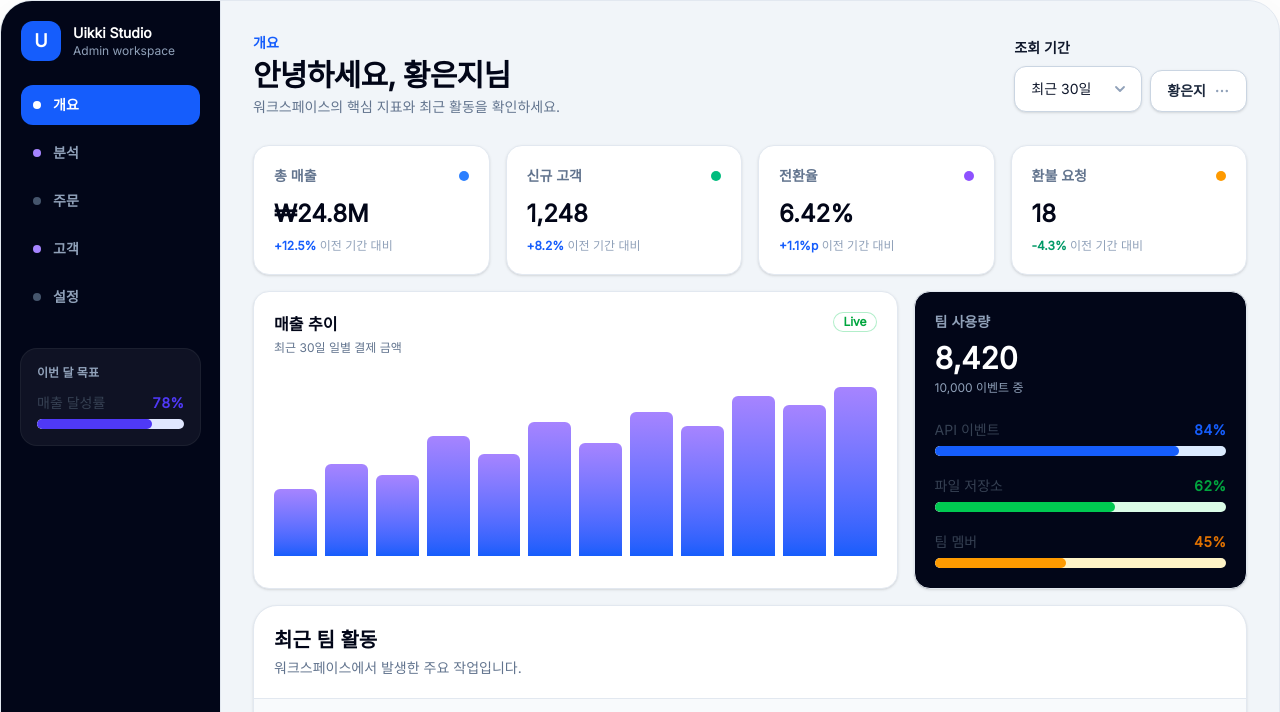
Scenario: admin dashboard template › updates the reporting period inside the composed template
Select "최근 7일" in the dropdown labelled "조회 기간" at (1078, 89), box [1014, 66, 1142, 112]
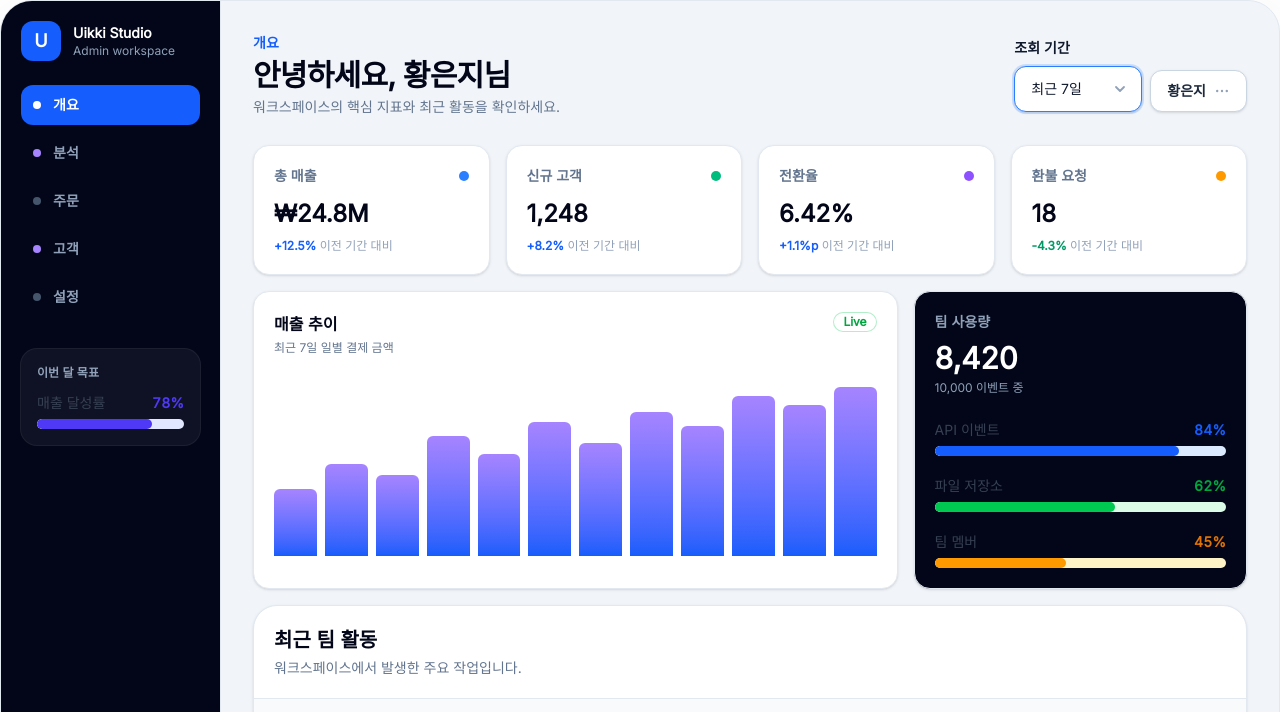
Now the text "최근 7일 일별 결제 금액" is shown, box [274, 340, 394, 356]
